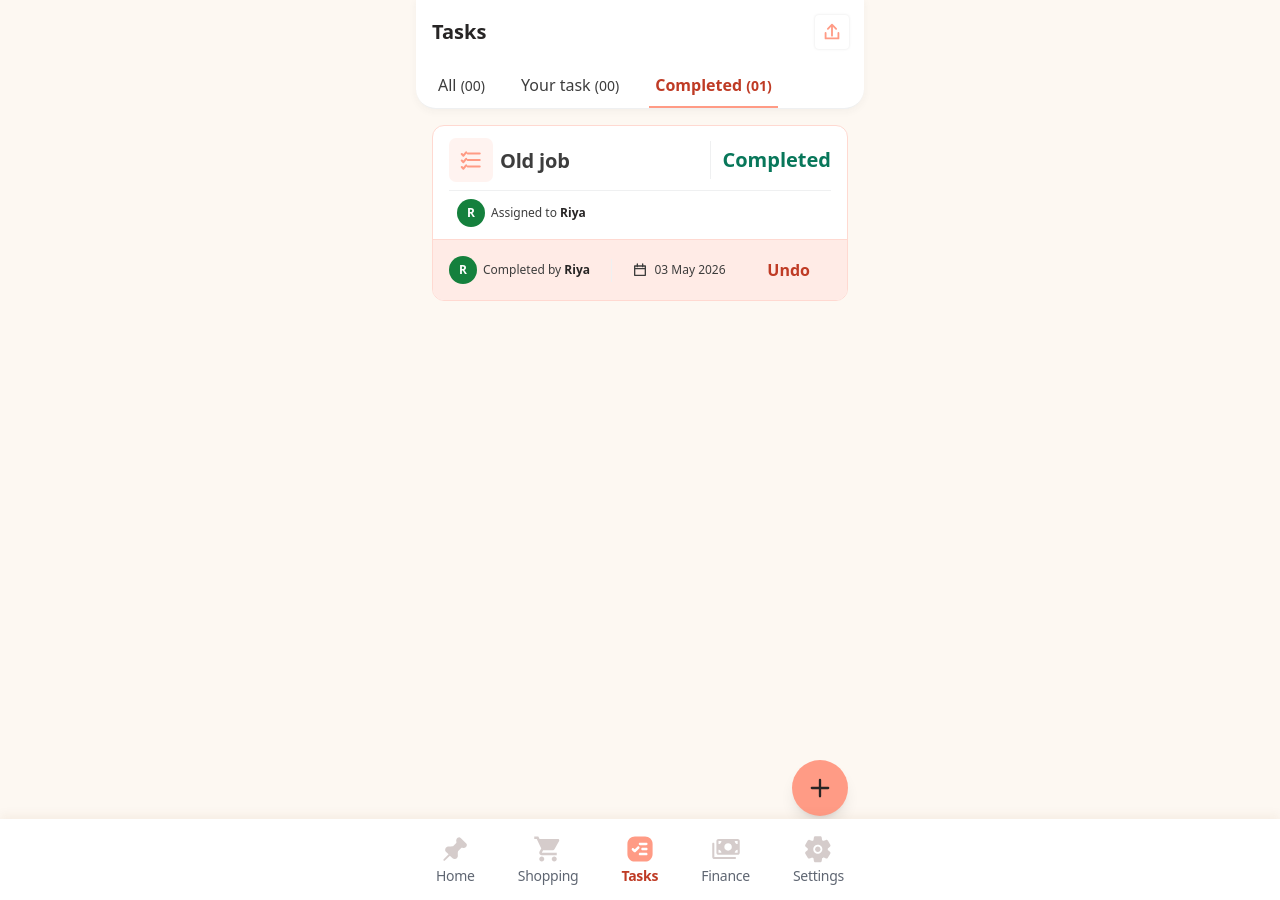
it: chore lists › Completed is a history with who finished it, and each can be reopened
This screenshot has width=1280, height=900.
Expected: the text "Completed by" reads "Completed by Riya", [483,262,590,278]
Click the button "Undo". click: [789, 270]
box: [746,248,831,292]
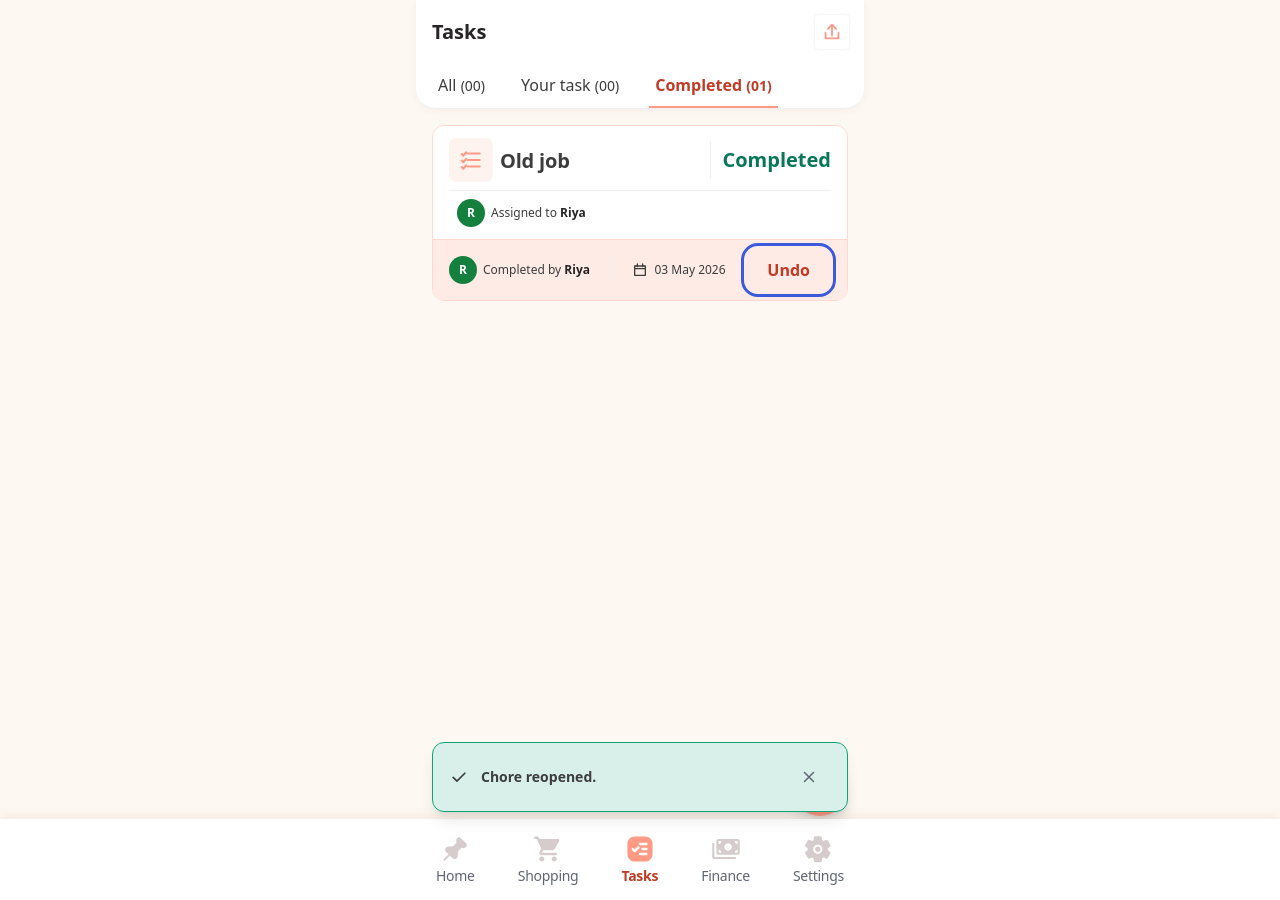
Now the text "Chore reopened." is shown, box [481,767,596,786]
